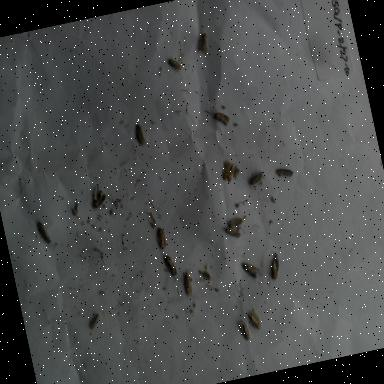pbw: (192, 28, 216, 62), (176, 266, 198, 298), (243, 302, 265, 334), (232, 314, 254, 345), (158, 252, 180, 280), (34, 216, 54, 246), (87, 181, 108, 209), (240, 258, 262, 282), (164, 53, 184, 78), (153, 224, 170, 252), (266, 254, 283, 281), (274, 162, 296, 182), (217, 160, 236, 182), (132, 121, 148, 147), (212, 108, 232, 128), (84, 311, 104, 331), (246, 168, 268, 186), (222, 222, 242, 241), (225, 213, 245, 230), (224, 164, 240, 182)
